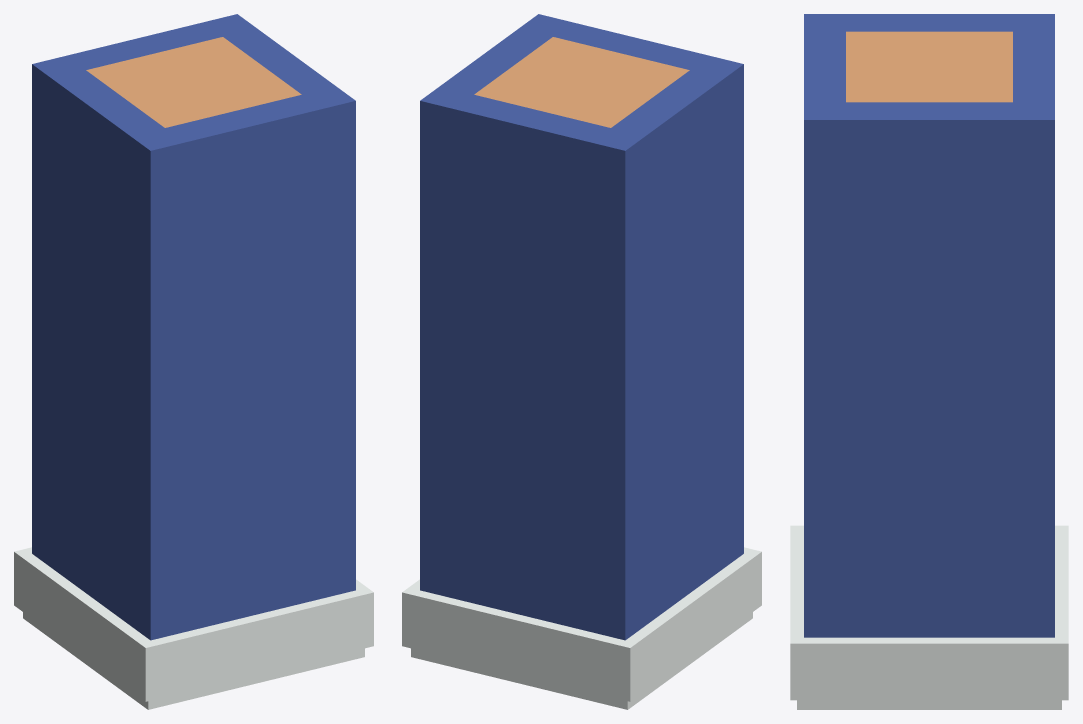
Rendered from LeftUpperLeg.obj.
3 renders of one model, left to right at view 1: azimuth 30°, elevation 25°; view 2: azimuth 150°, elevation 25°; view 3: azimuth 270°, elevation 25°, orthographic. The views are drawn at different scales.
Size of the model in its own units: 4 by 9.3 by 4.
Materials: 1 (1 with a texture image).
